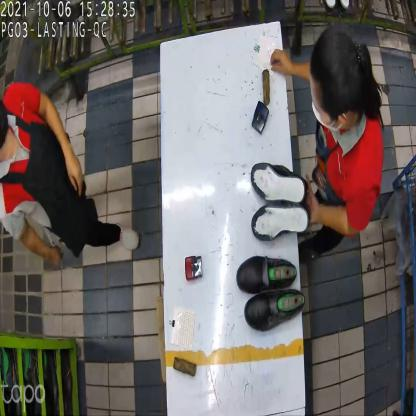shoes: (232, 252, 307, 332), (248, 158, 310, 242)
stamp: (182, 249, 203, 282), (252, 100, 270, 134)
